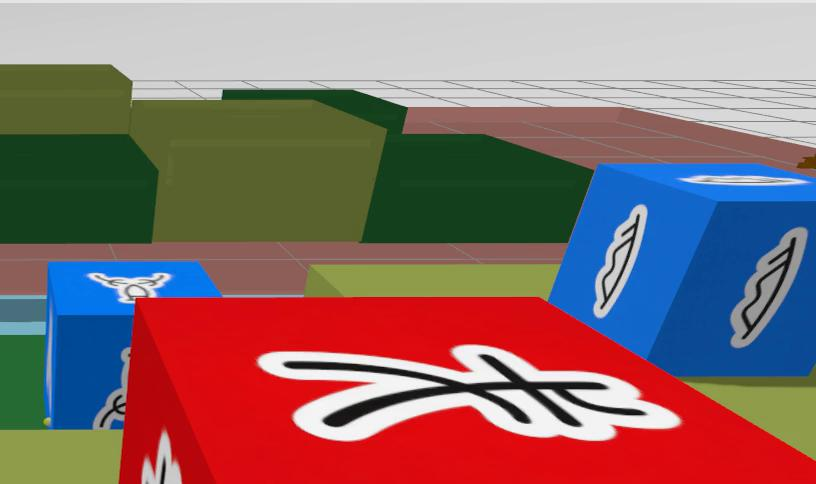KFS_FAKE: (117, 296, 815, 484), (258, 345, 680, 440), (140, 432, 181, 484)
KFS_REAL: (549, 164, 815, 376), (44, 260, 221, 428), (730, 228, 807, 348), (591, 204, 648, 319), (88, 272, 170, 302)
